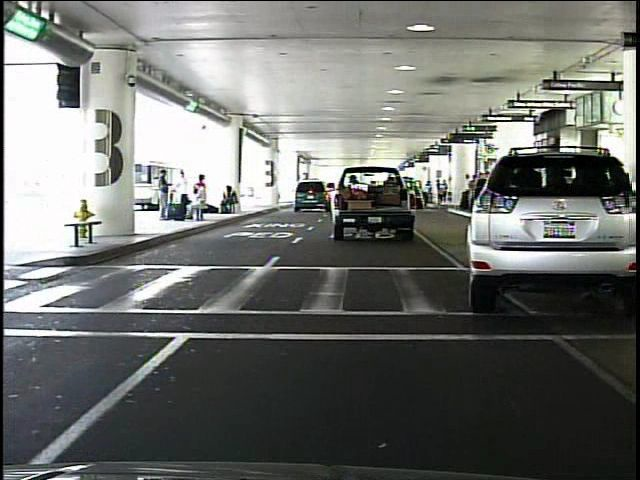person: (154, 166, 175, 220)
